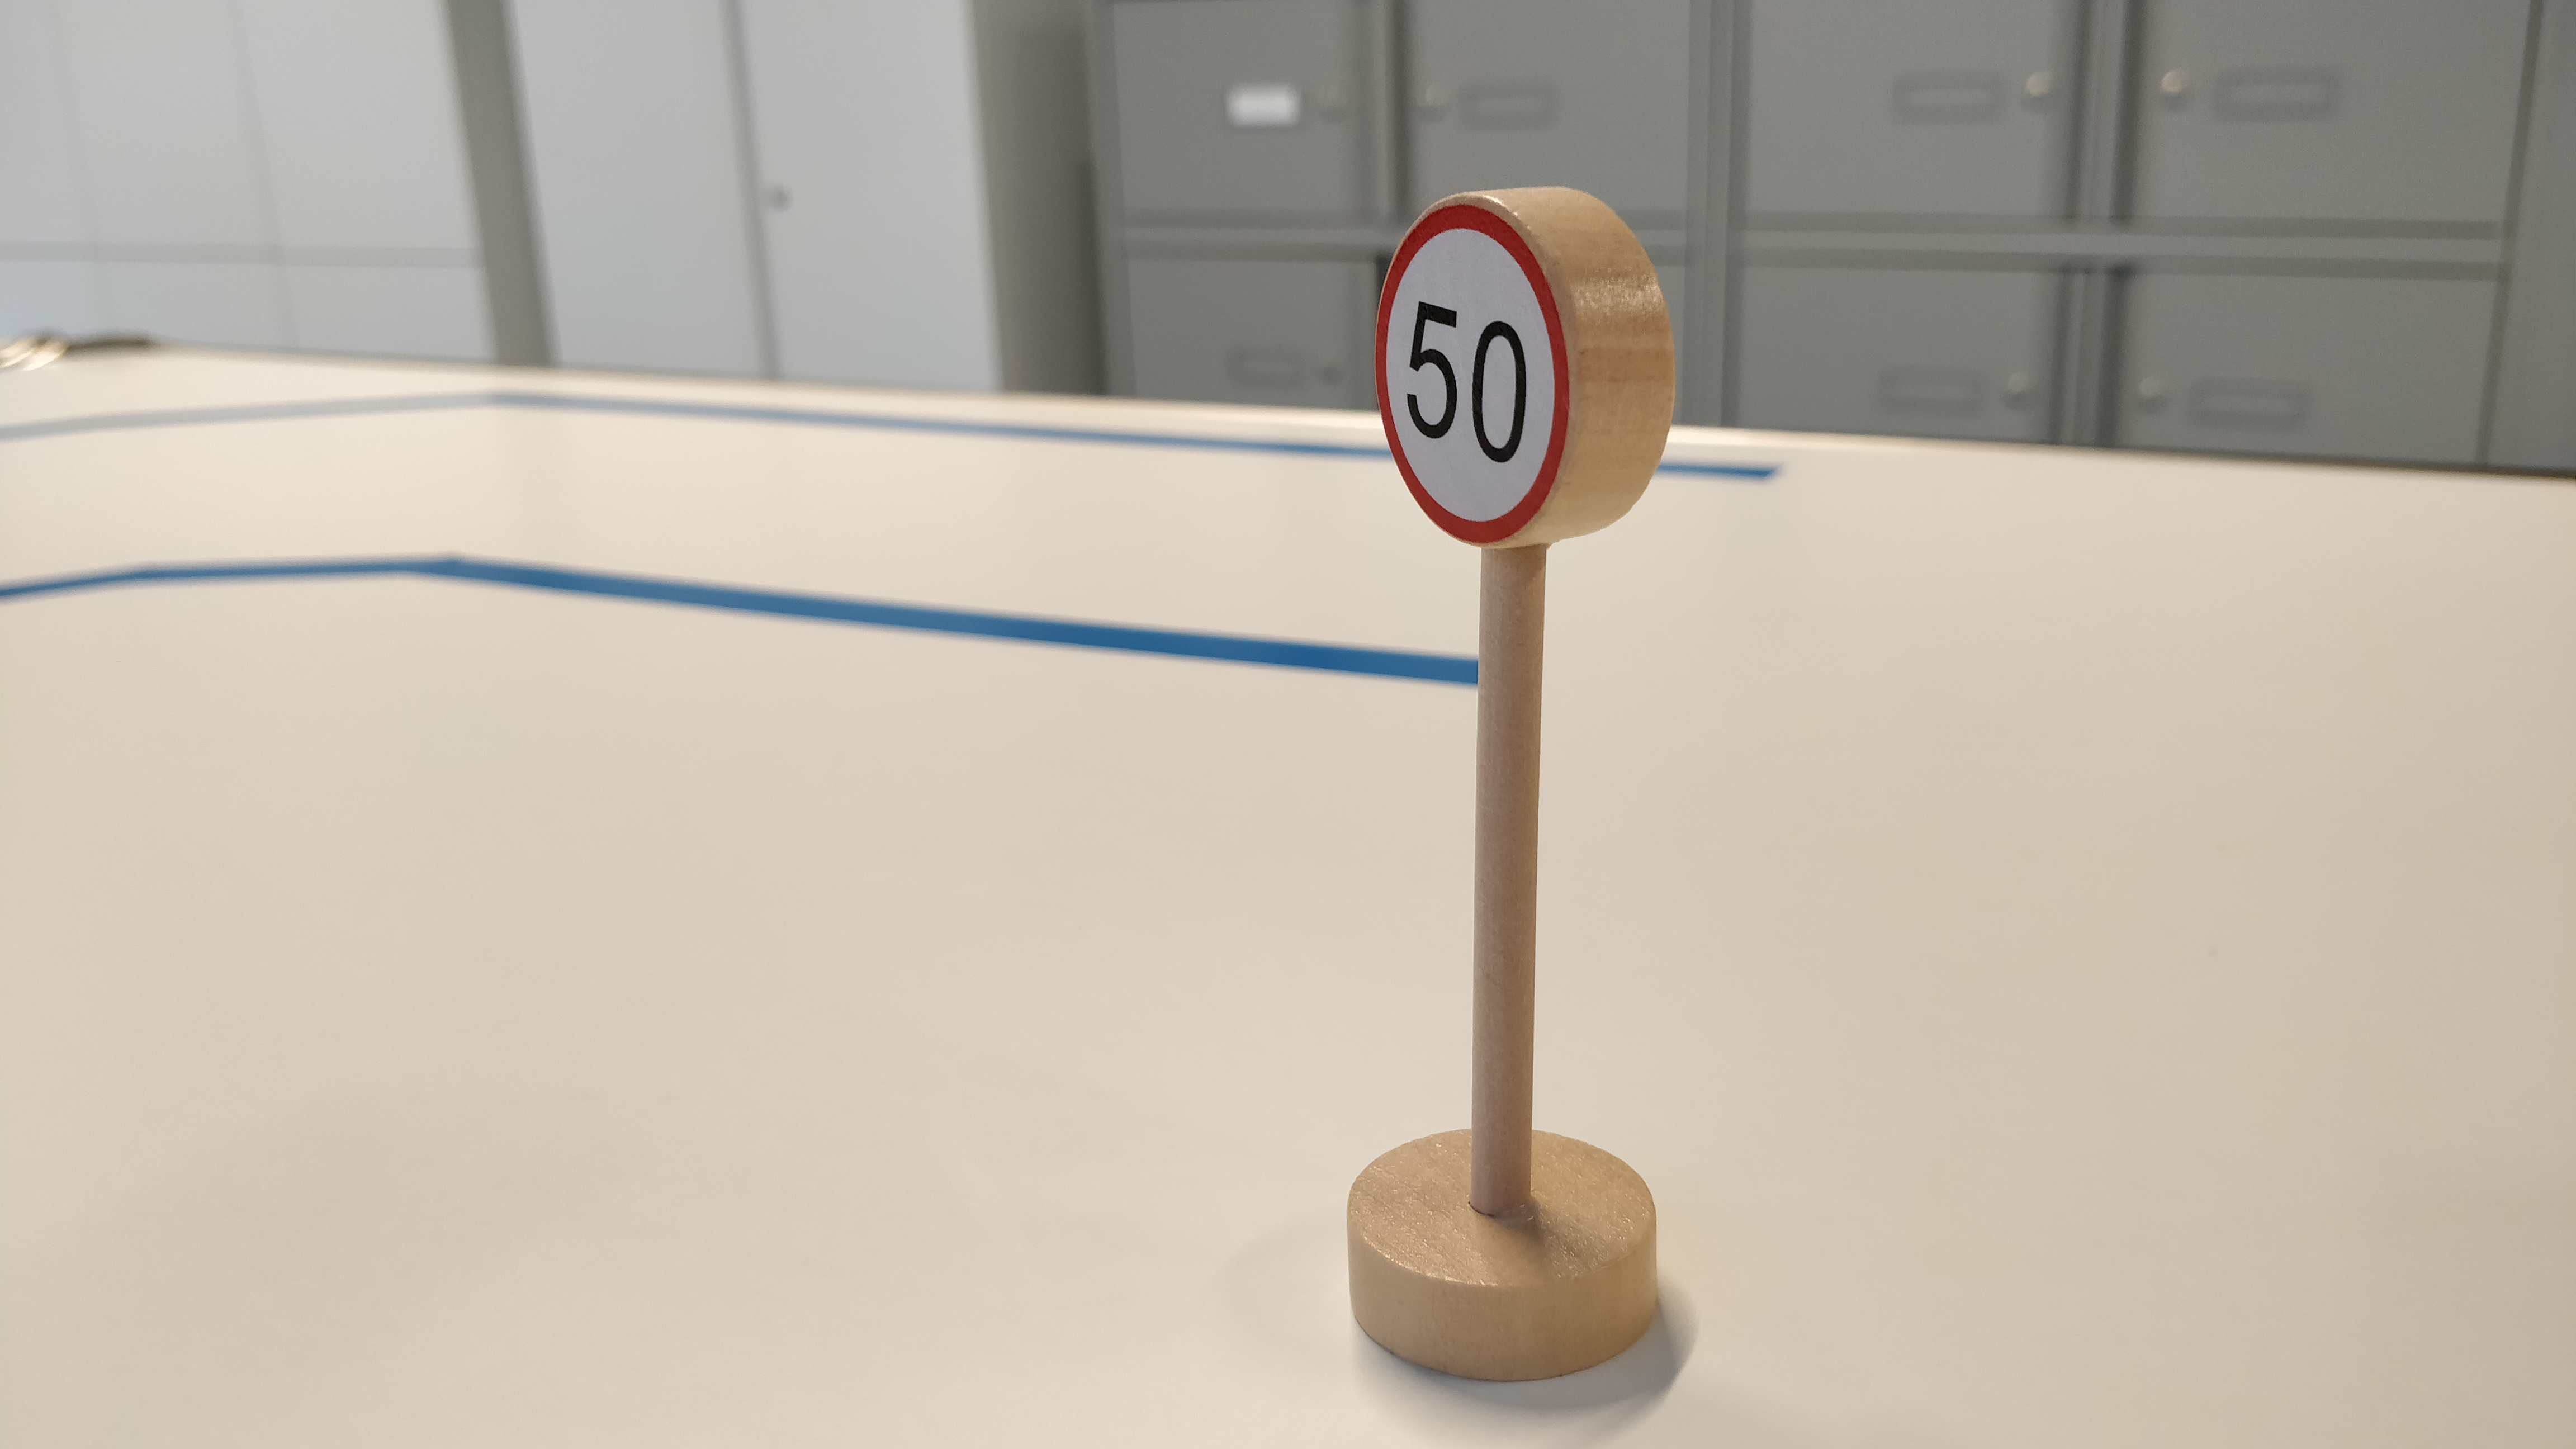Speed Limit 50: (1367, 184, 1684, 554)
